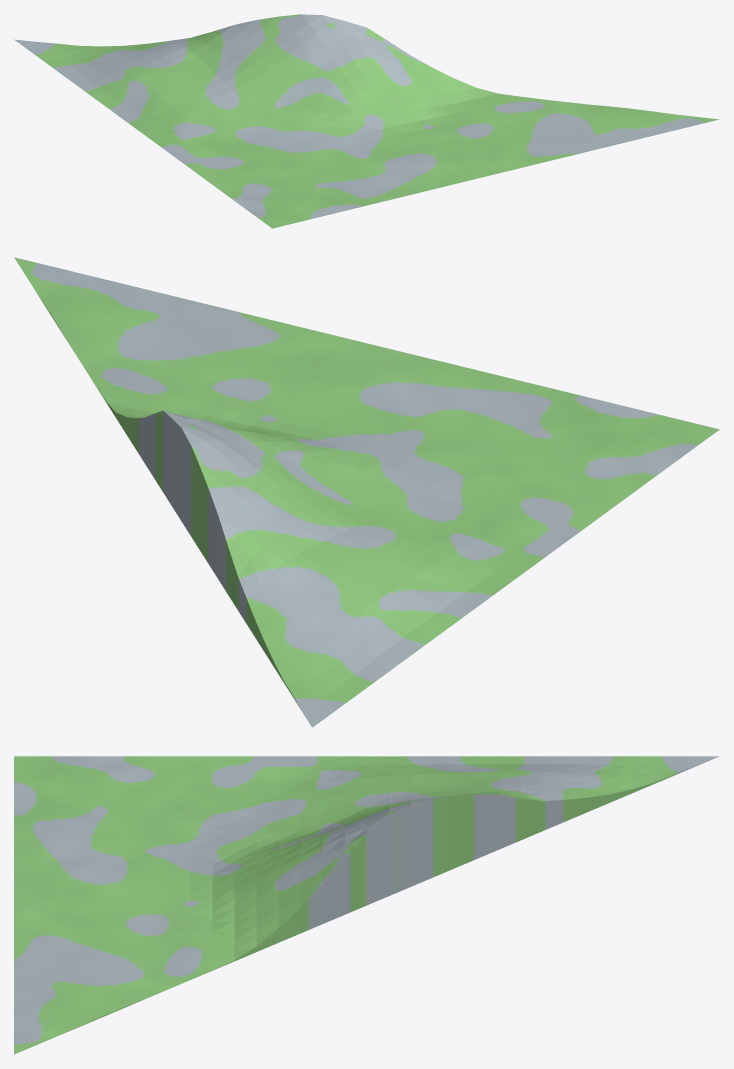
File: Grass_RockyGround_11_NW.obj
3 views of the same model, one above another, from view 1: azimuth 30°, elevation 25°; view 2: azimuth 150°, elevation 25°; view 3: azimuth 270°, elevation 25° (orthographic). The views are drawn at different scales.
Bounding box in the file's own units: 10 × 1.27 × 10.
Materials: 1 (1 with a texture image).
